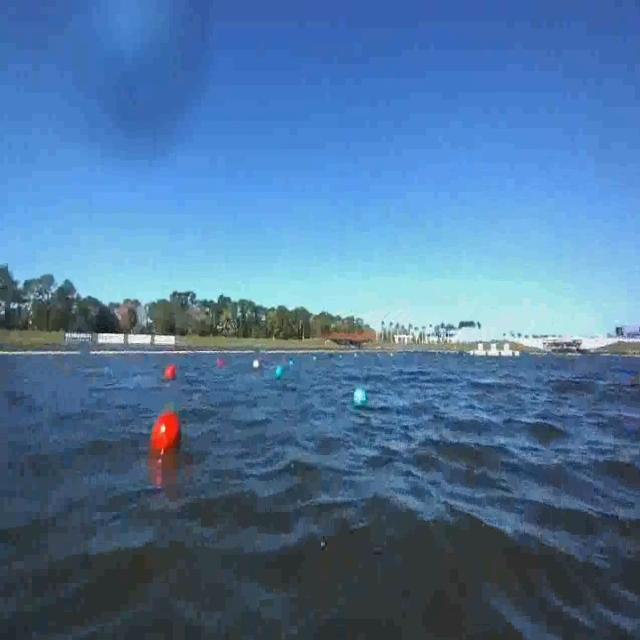green-buoy: (353, 386, 368, 408), (274, 362, 284, 382)
red-buoy: (150, 409, 190, 459), (164, 363, 176, 381), (217, 358, 224, 368)
